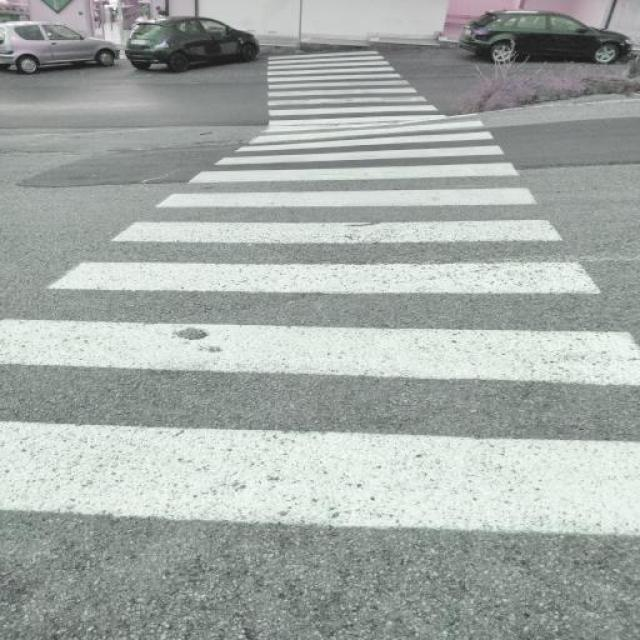crosswalk: (2, 47, 640, 541)
